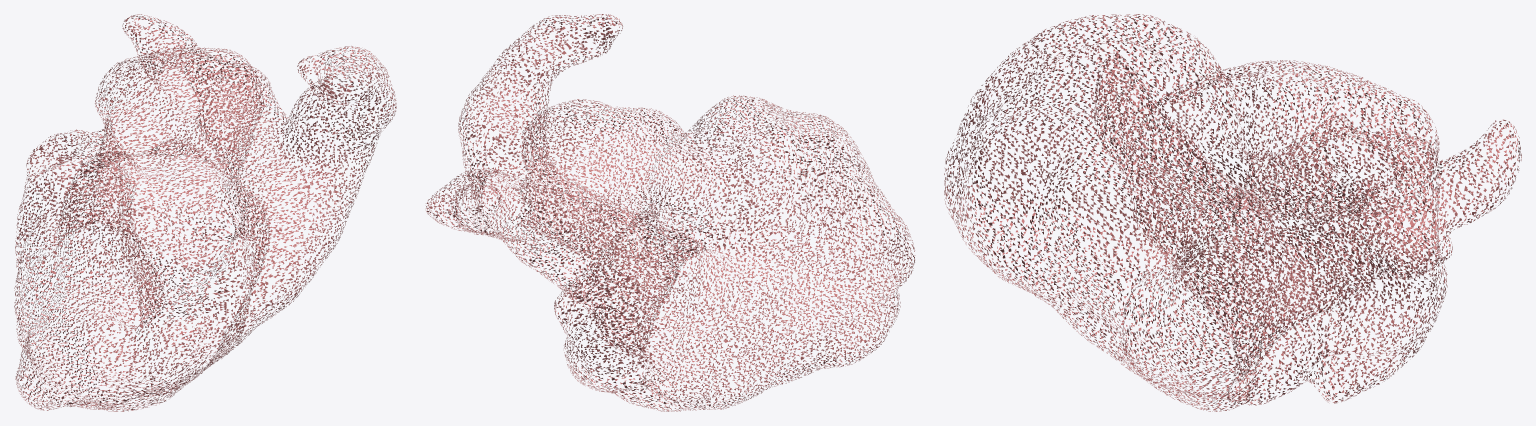
The model's file is heart.glb.
The picture shows the model from 3 angles, left to right: view 1: azimuth 30°, elevation 25°; view 2: azimuth 150°, elevation 25°; view 3: azimuth 270°, elevation 25°; orthographic projection. The views are drawn at different scales.
Bounding box in the file's own units: 140 × 111 × 137.
